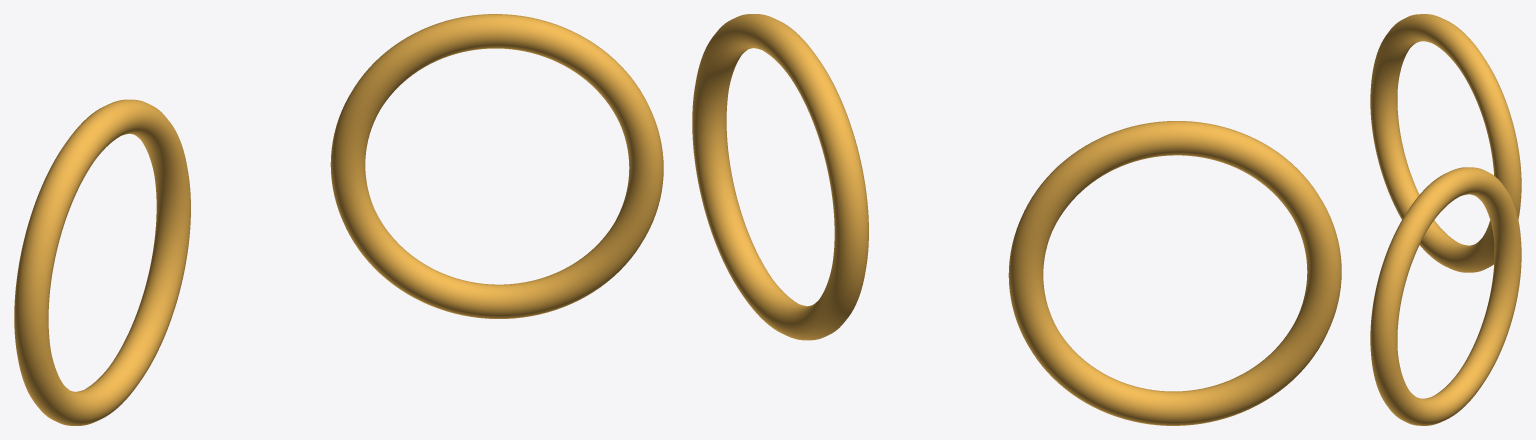
The model's file is gold-hoop-earrings.glb.
3 views of the same model, side by side, from view 1: azimuth 30°, elevation 25°; view 2: azimuth 150°, elevation 25°; view 3: azimuth 270°, elevation 25° (orthographic). The views are drawn at different scales.
Parts seen in each view (by area): view 1: metal; view 2: metal; view 3: metal.
Boxes of the visible parts, box(x1,y1,x2,y2) form: metal: box(14, 14, 663, 425); metal: box(692, 14, 1341, 425); metal: box(1370, 14, 1521, 425).
Size of the model in its own units: 4.74 by 2.12 by 1.21.
